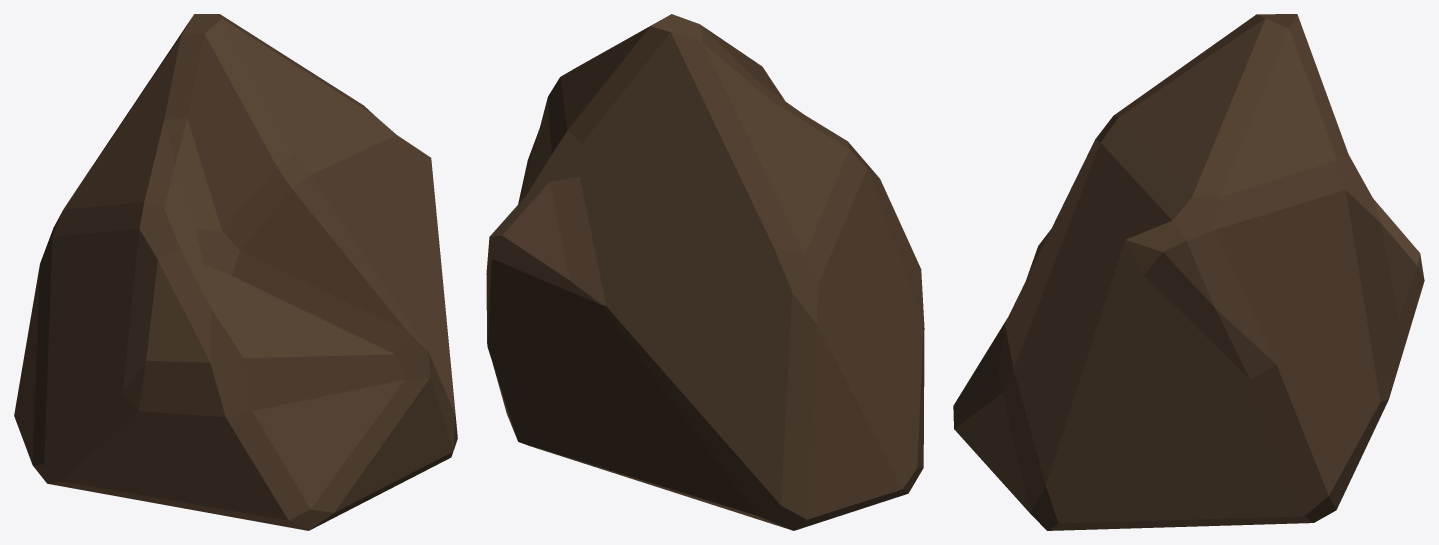
The model's file is Rock_11_Dark_Brown.fbx.
3 renders of one model, left to right at view 1: azimuth 30°, elevation 25°; view 2: azimuth 150°, elevation 25°; view 3: azimuth 270°, elevation 25°, orthographic. The views are drawn at different scales.
Visible parts, largest first — view 1: Rock_11_Dark_Brown; view 2: Rock_11_Dark_Brown; view 3: Rock_11_Dark_Brown.
Part boxes in pixels (x1,y1,x2,y2): Rock_11_Dark_Brown: (14, 14, 457, 530); Rock_11_Dark_Brown: (486, 14, 924, 530); Rock_11_Dark_Brown: (953, 14, 1424, 530).
Size of the model in its own units: 243 by 265 by 253.
